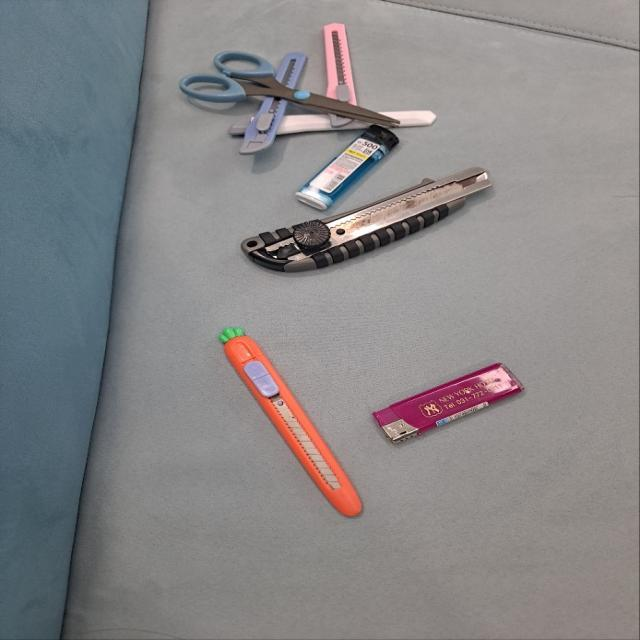cutter: (214, 324, 369, 520), (240, 164, 502, 276), (241, 46, 310, 160), (223, 111, 443, 133), (320, 26, 354, 130)
lighter: (370, 359, 528, 444), (291, 126, 400, 211)
scissors: (172, 47, 406, 135)
